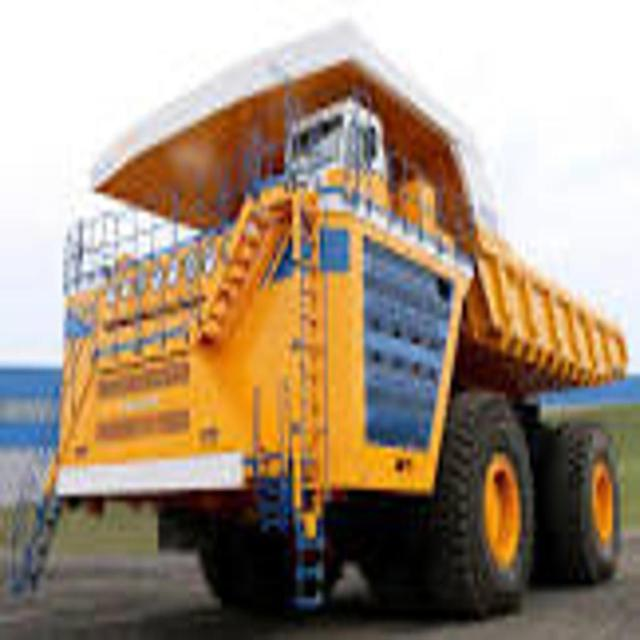dump_truck: (55, 68, 640, 633)
